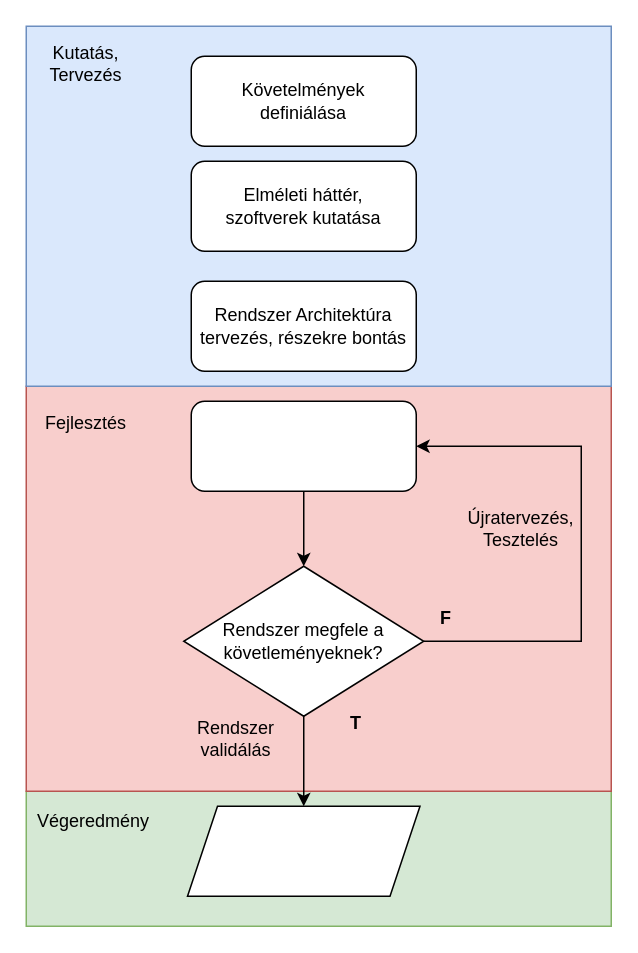
The diagram is 638 pixels wide and 953 high, and some of its shapes have lost their labels. Each missing label, with the centre of its shape:
Elkészült Rendszer!: the point at 303,850
Inkremens(rész) integrálása rendszerbe: the point at 303,445
